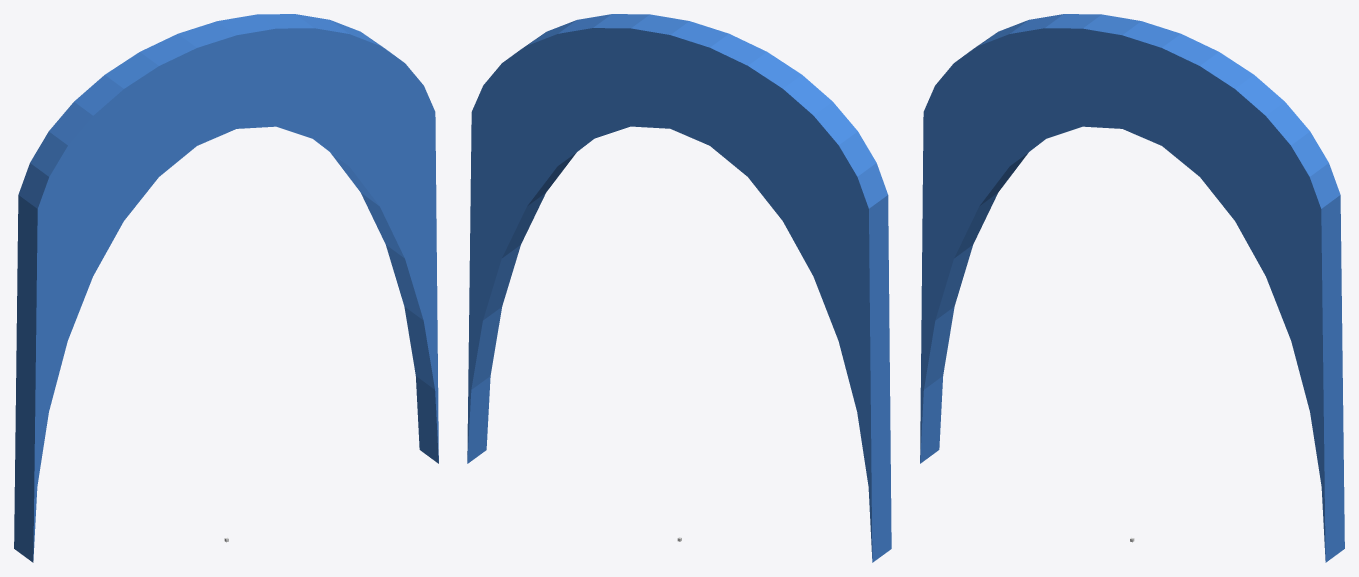
The model's file is frame.gltf.
The picture shows the model from 3 angles, left to right: view 1: azimuth 30°, elevation 25°; view 2: azimuth 150°, elevation 25°; view 3: azimuth 330°, elevation 25°; orthographic projection.
Visible parts, largest first — view 1: Cylinder; view 2: Cylinder; view 3: Cylinder.
Part boxes in pixels (<box>): Cylinder: <box>14,14,438,562</box>; Cylinder: <box>467,14,891,562</box>; Cylinder: <box>920,14,1344,562</box>.
Bounding box in the file's own units: 302 × 365 × 25.6.
